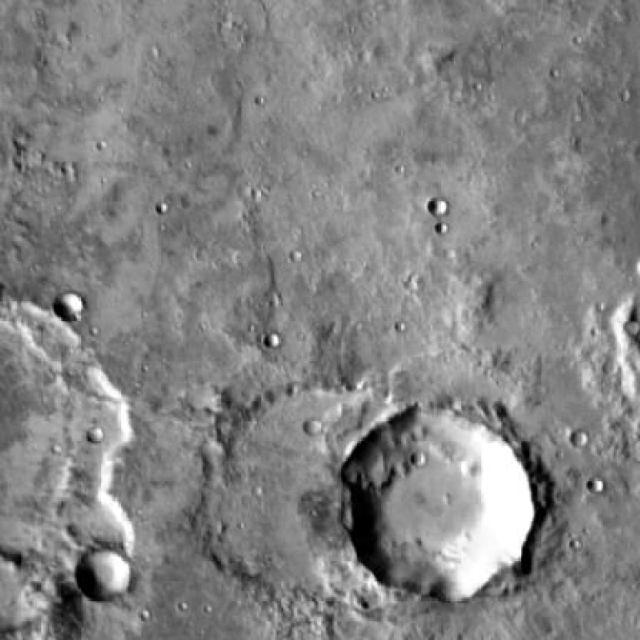crater: (210, 375, 444, 597), (352, 405, 550, 593), (78, 548, 133, 600), (56, 291, 85, 318), (429, 199, 449, 218), (568, 429, 586, 448), (88, 428, 105, 444), (304, 421, 322, 436)
